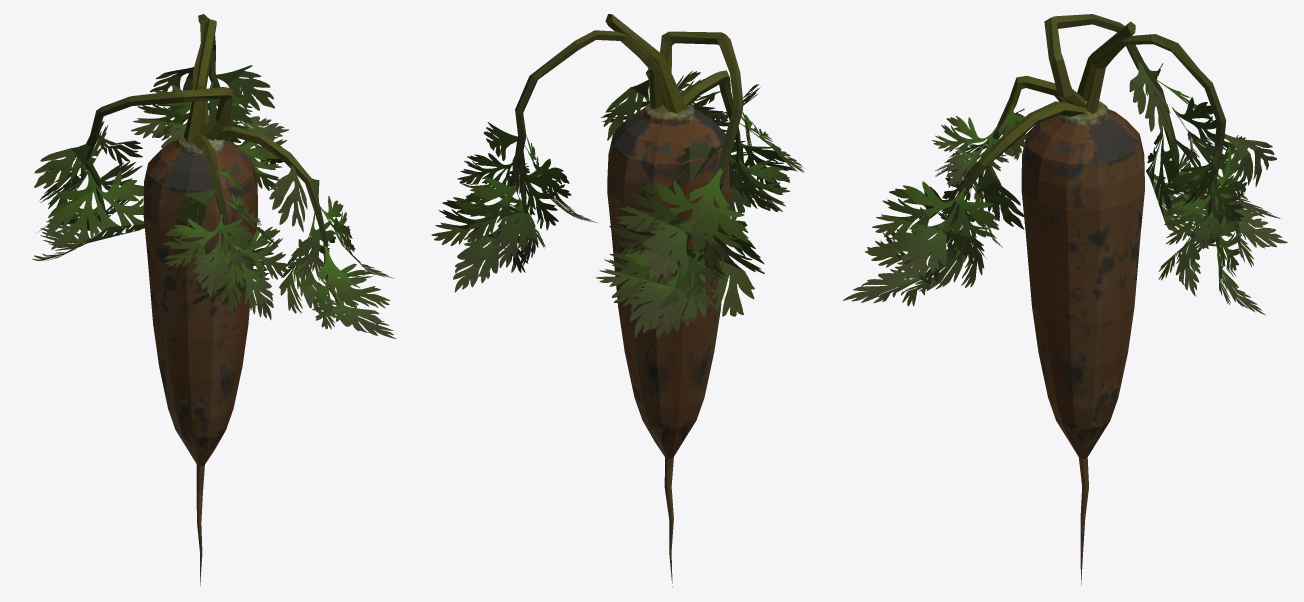
File: P_Herb_00343.obj
The picture shows the model from 3 angles, left to right: view 1: azimuth 30°, elevation 25°; view 2: azimuth 150°, elevation 25°; view 3: azimuth 270°, elevation 25°; orthographic projection. The views are drawn at different scales.
Bounding box in the file's own units: 0.3807 × 0.6616 × 0.4619.
Materials: 1 (1 with a texture image).
